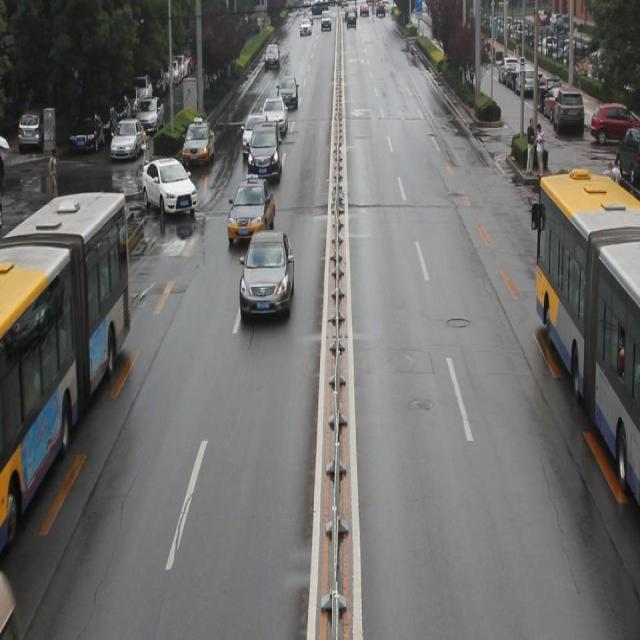car: (240, 226, 294, 319), (141, 156, 199, 222), (227, 174, 274, 251), (248, 124, 280, 179), (183, 119, 214, 170), (240, 112, 268, 159), (260, 97, 286, 135)
van: (1, 189, 132, 551), (531, 183, 640, 517)
